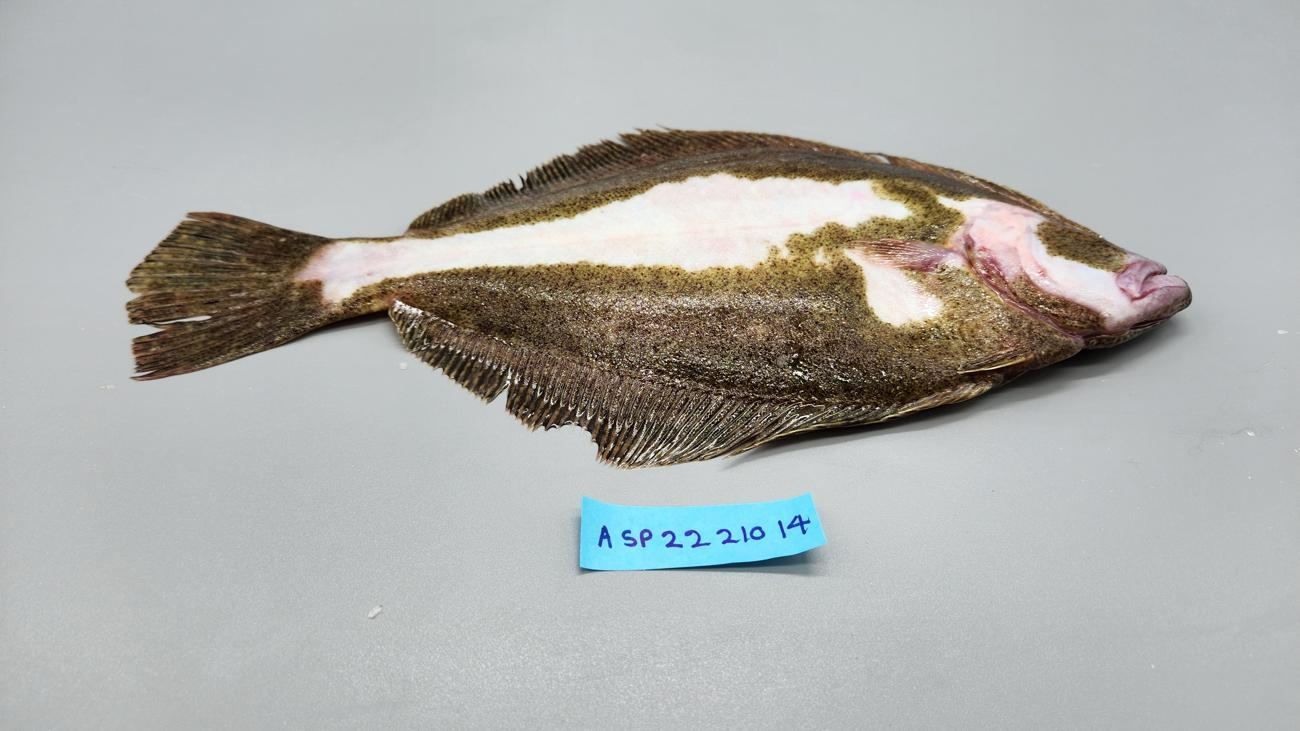SPDYH: (967, 321, 1038, 366)
SPOUY: (113, 113, 1202, 474)
